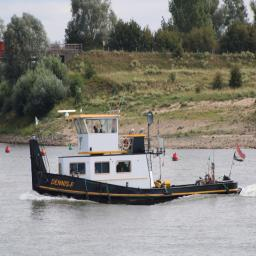tugboat: (28, 90, 246, 211)
